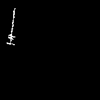treble_crochet: (7, 11, 14, 44)
